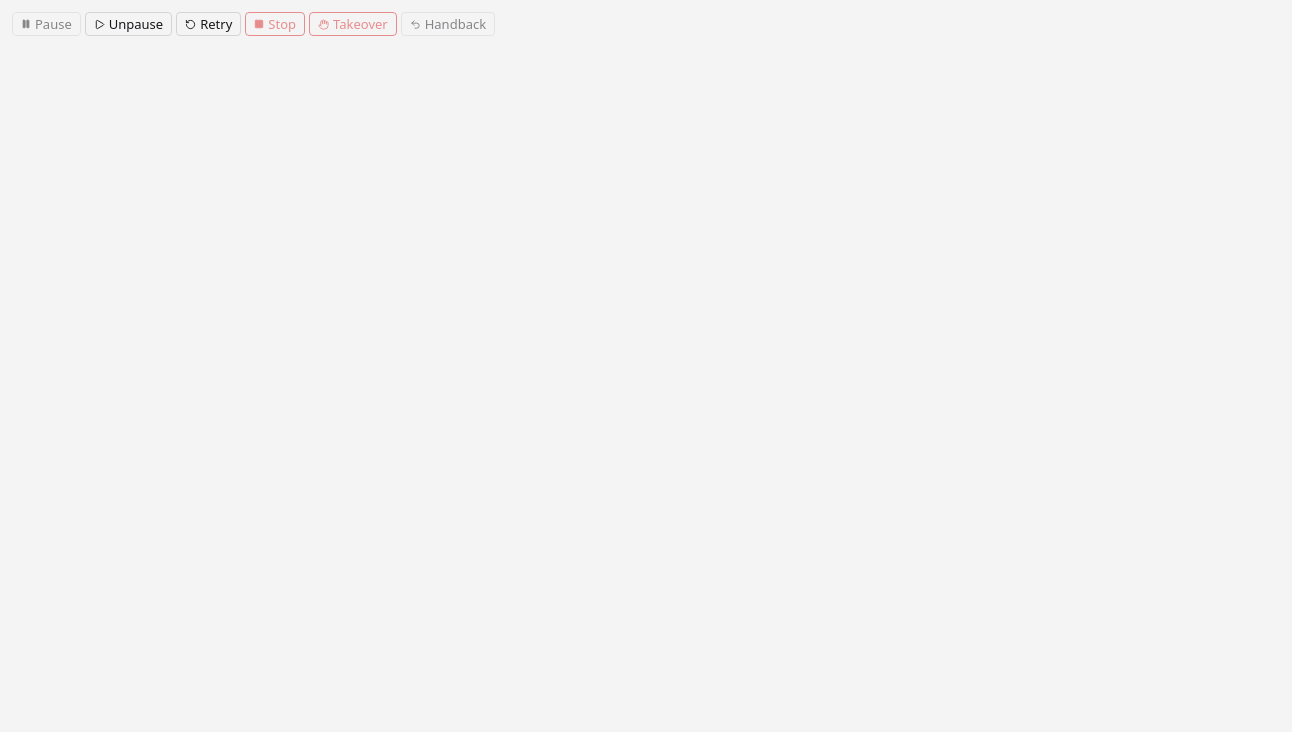
Scenario: LoopActionBar retry dirty UX › surfaces non-404 preflight failures without retrying
The width and height of the screenshot is (1292, 732).
Click the button "Retry" at (209, 24), box [176, 12, 241, 36]
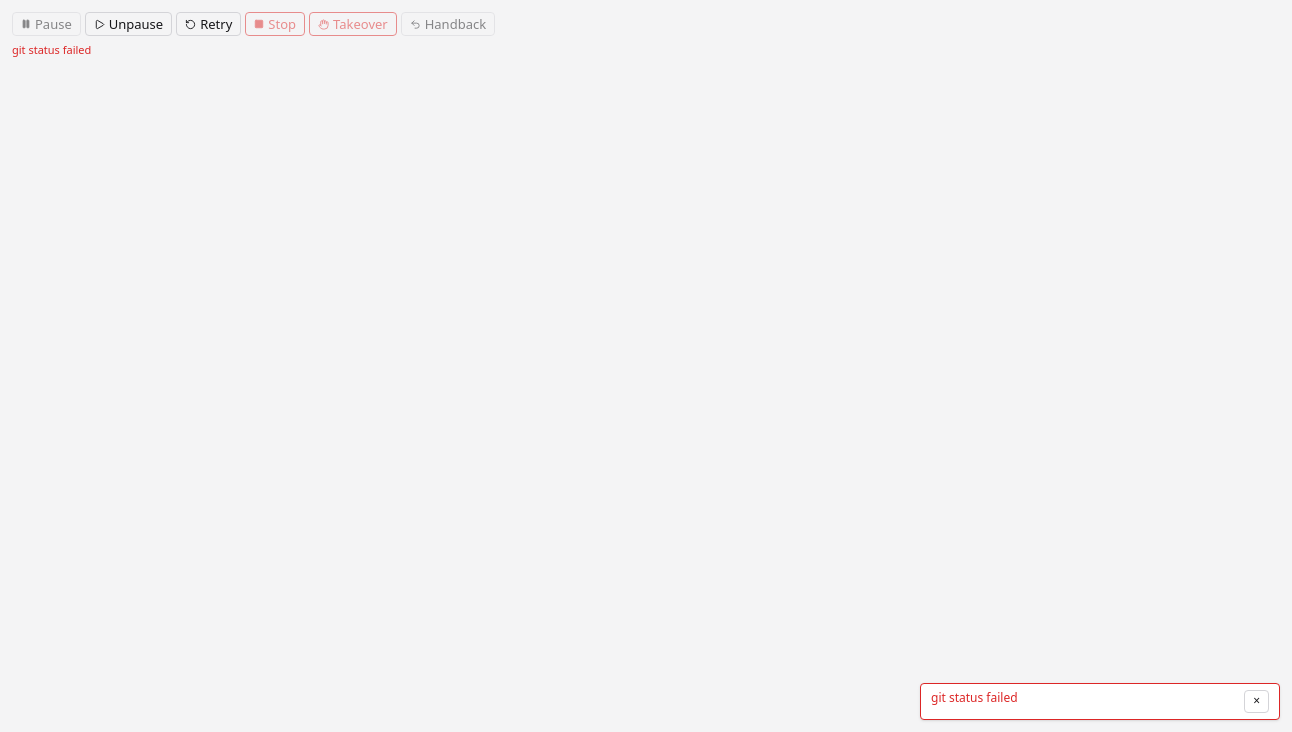
expect the 1st text "git status failed" is shown: met, box [12, 42, 91, 57]
